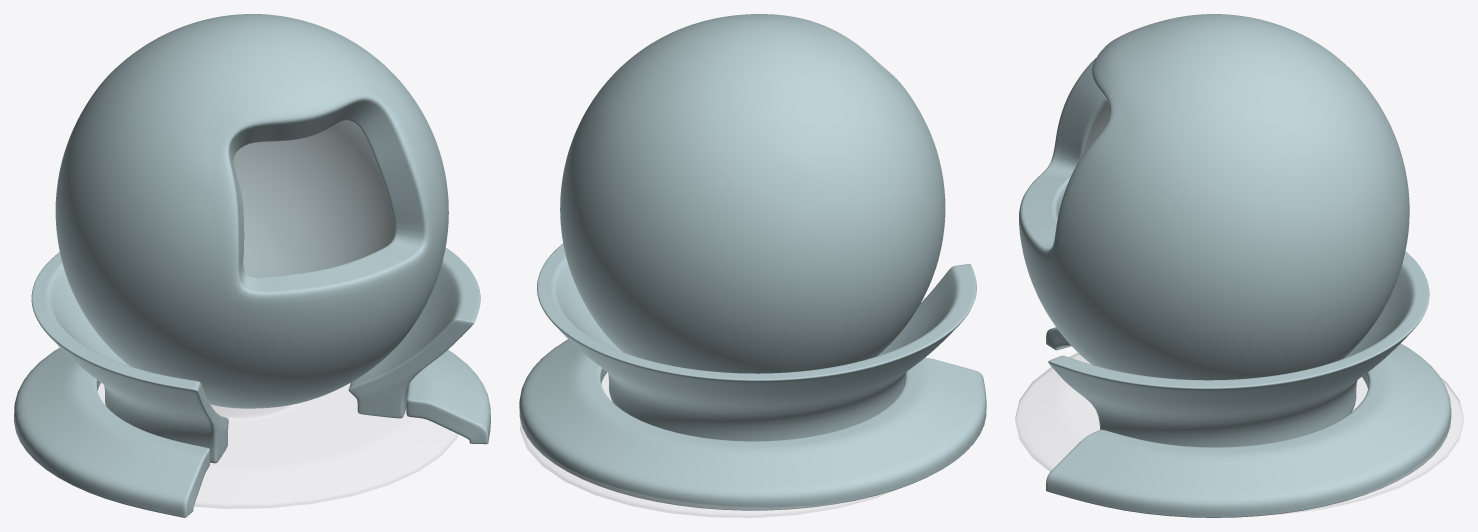
Rendered from materialKnob.gltf.
The picture shows the model from 3 angles, left to right: view 1: azimuth 30°, elevation 25°; view 2: azimuth 150°, elevation 25°; view 3: azimuth 270°, elevation 25°; orthographic projection. The views are drawn at different scales.
Visible parts, largest first — view 1: mitsuba-sphere; view 2: mitsuba-sphere; view 3: mitsuba-sphere.
Boxes of the visible parts, left/top/right/bottom form: mitsuba-sphere: left=14, top=14, right=490, bottom=517; mitsuba-sphere: left=519, top=14, right=986, bottom=517; mitsuba-sphere: left=1015, top=14, right=1463, bottom=517.
Size of the model in its own units: 2.44 by 2.21 by 2.31.
